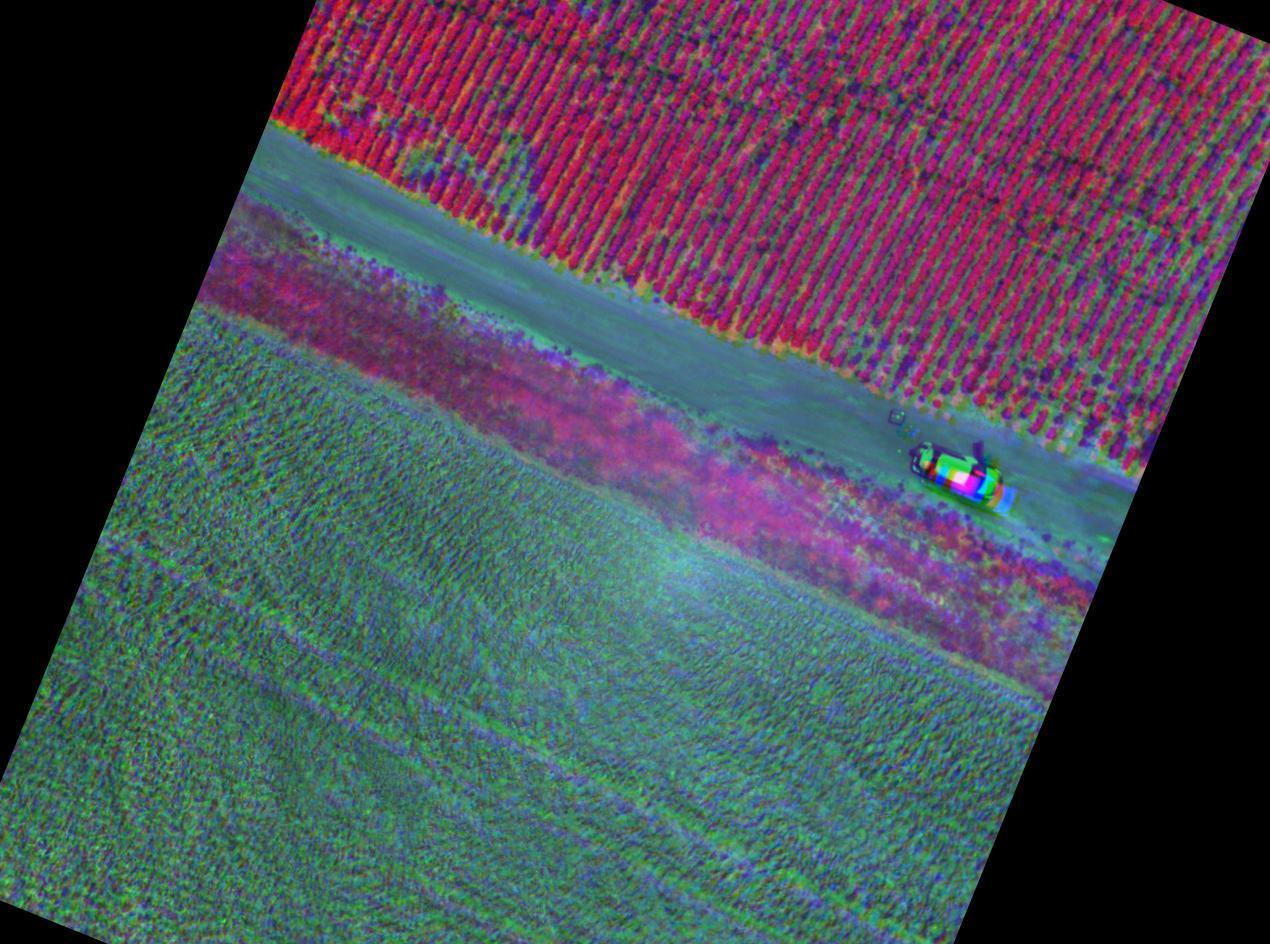dc: (842, 320, 923, 390), (471, 136, 538, 218), (1037, 405, 1097, 461), (402, 130, 450, 181), (939, 380, 990, 423)
